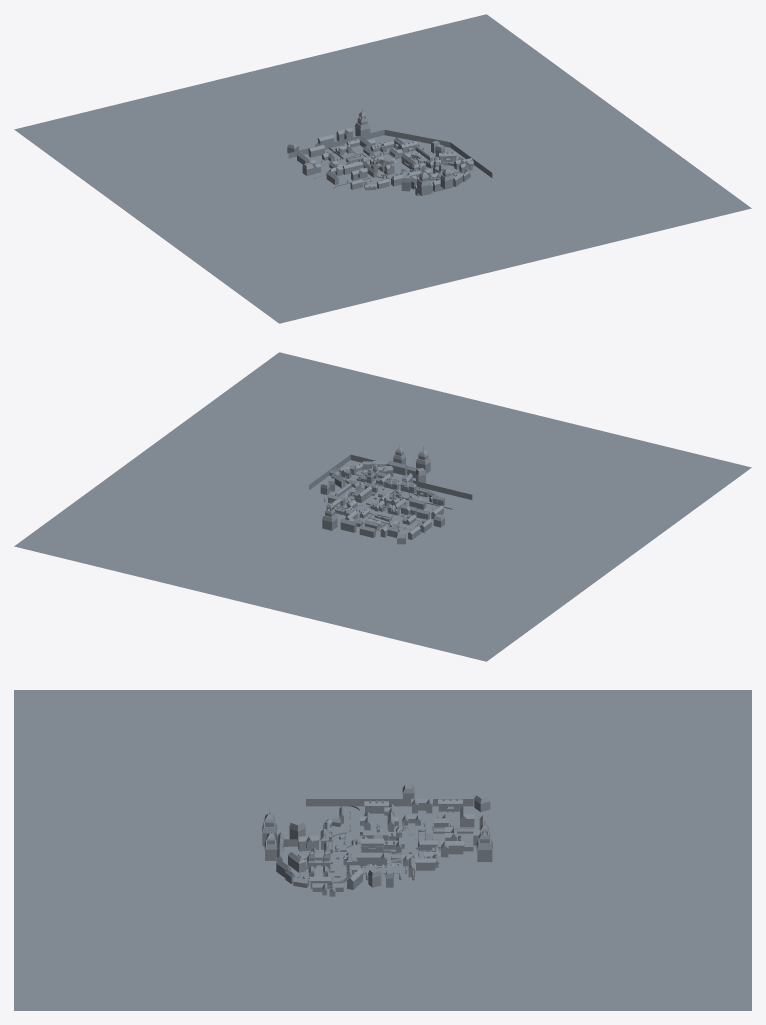
Rendered from gltf__Models__map__Village__byway__byway_mergedScene_oneMesh.glb.
3 views of the same model, one above another, from view 1: azimuth 30°, elevation 25°; view 2: azimuth 150°, elevation 25°; view 3: azimuth 270°, elevation 25° (orthographic). The views are drawn at different scales.
Visible parts, largest first — view 1: byway_mergedScene; view 2: byway_mergedScene; view 3: byway_mergedScene.
Part boxes in pixels (<box>): byway_mergedScene: <box>14,14,751,323</box>; byway_mergedScene: <box>14,352,751,661</box>; byway_mergedScene: <box>14,690,751,1010</box>.
Size of the model in its own units: 470 by 29.51 by 457.
Materials: 5 (5 with a texture image).
